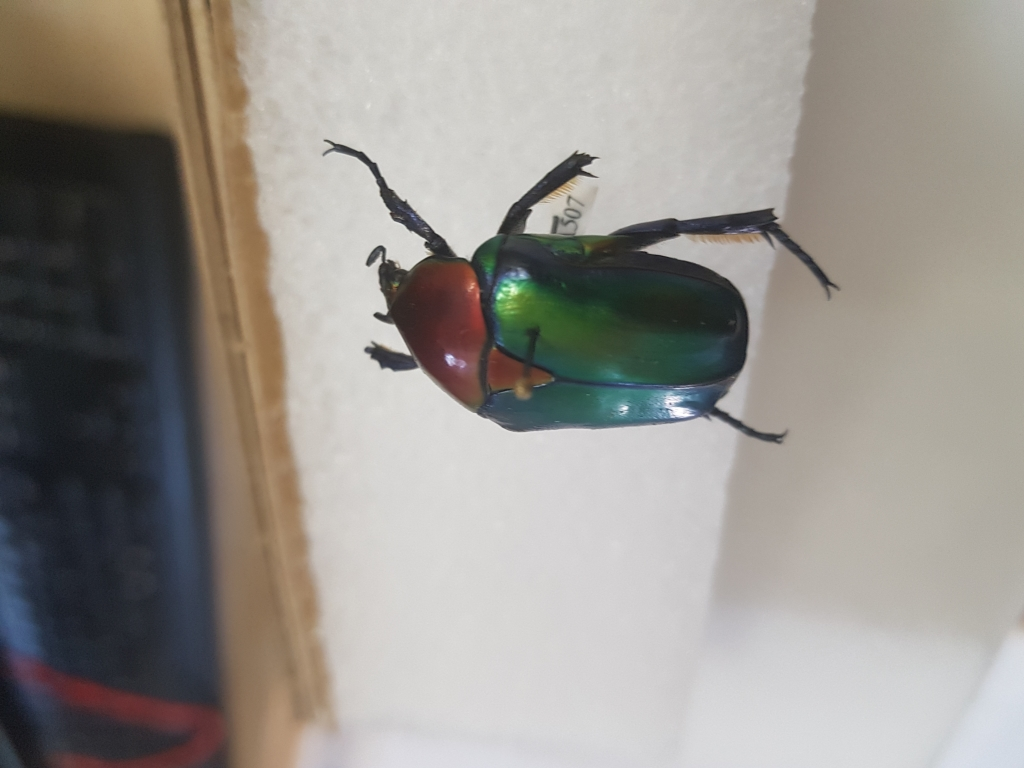Protaetia_speciosa_jousselini: (315, 122, 854, 457)
